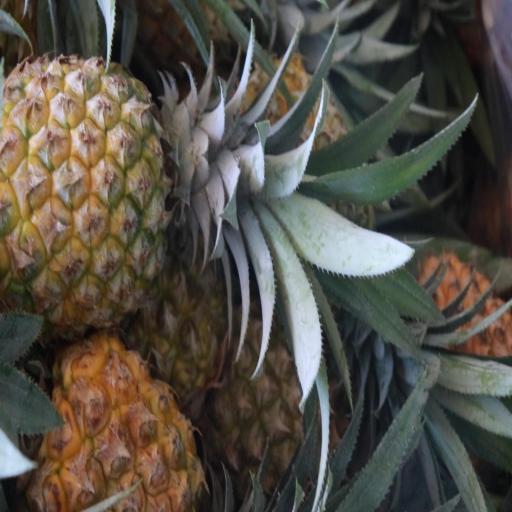Pineapple - v8 v1: (0, 60, 180, 321), (29, 330, 204, 512), (210, 298, 336, 491)
